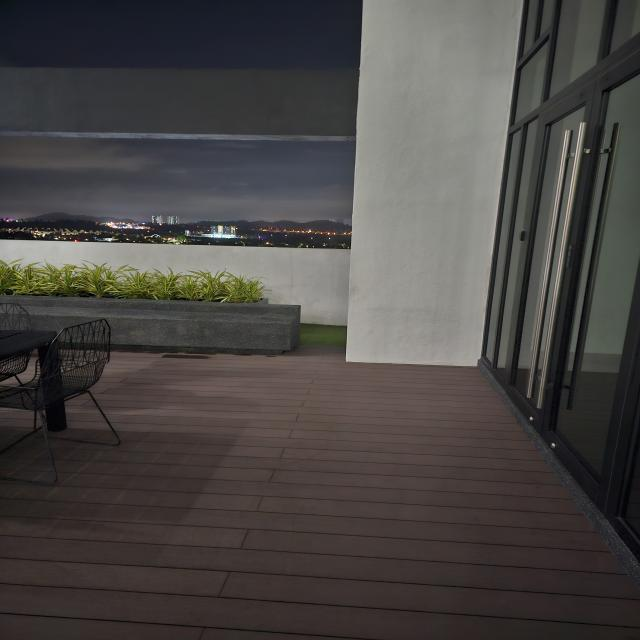footpath: (133, 361, 509, 639)
obstacle: (0, 308, 122, 479), (103, 266, 304, 355)
